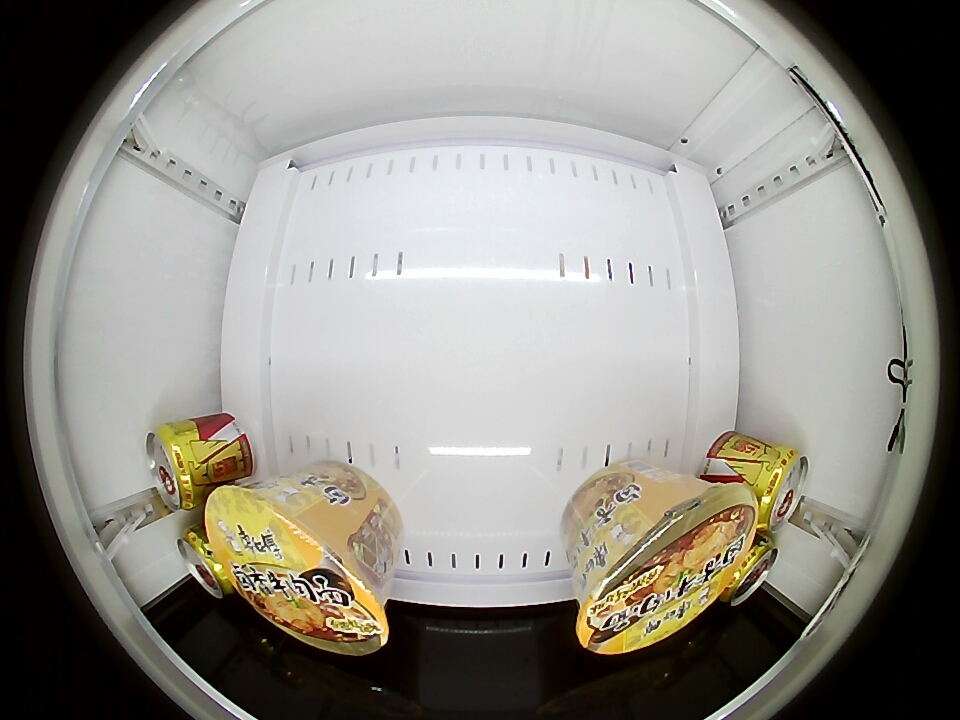dongpeng: (146, 421, 207, 513), (750, 446, 810, 531), (177, 525, 232, 599), (723, 536, 779, 607)
luxiangniurou: (206, 480, 389, 657), (576, 483, 756, 656)
